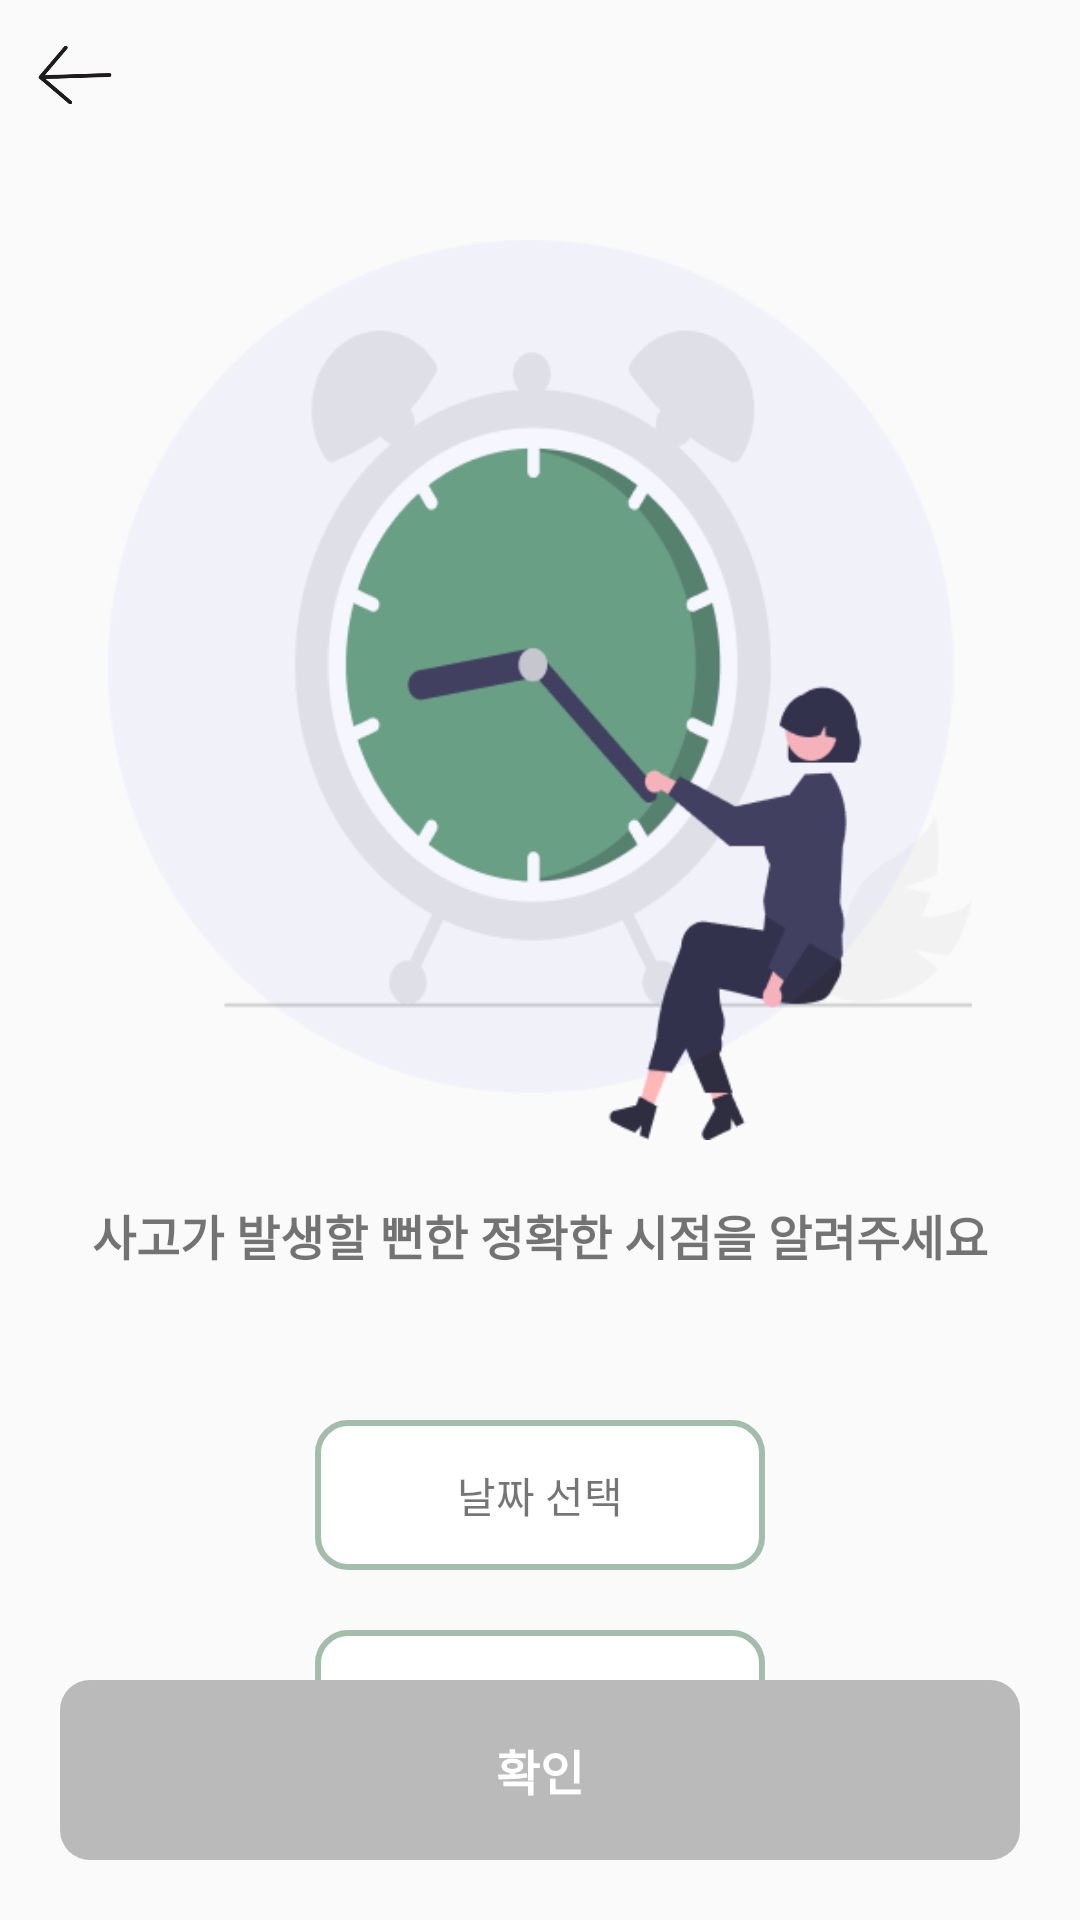

Icon click points for this 1080*1920 phone screenshot, format point (x, y):
back arrow: point (75, 75)
